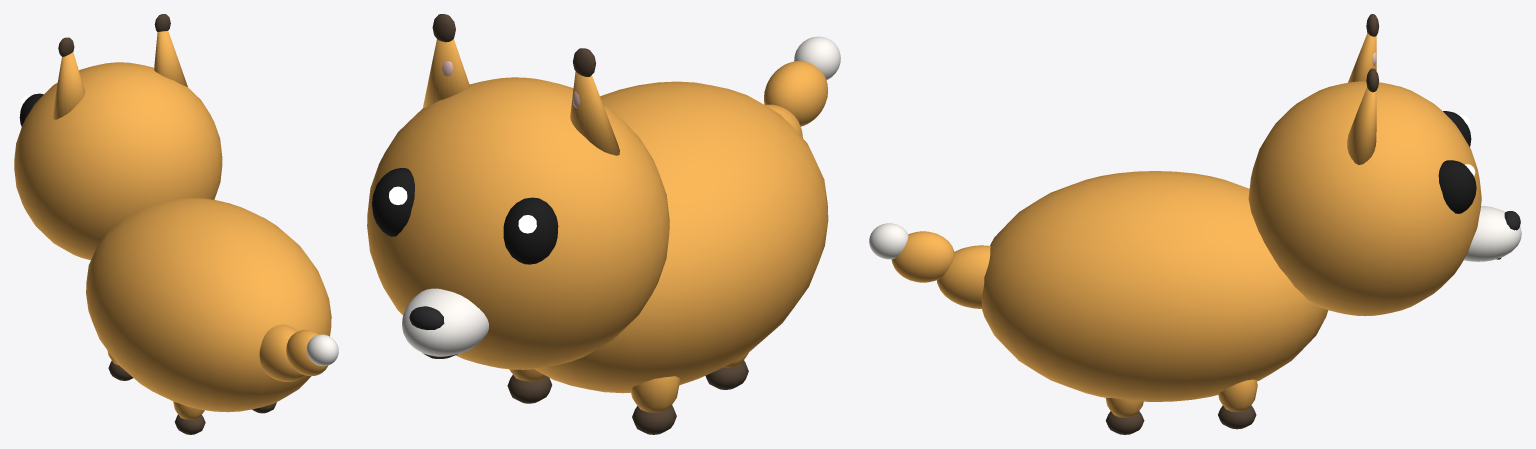
File: scriptfox.glb
The picture shows the model from 3 angles, left to right: view 1: azimuth 30°, elevation 25°; view 2: azimuth 150°, elevation 25°; view 3: azimuth 270°, elevation 25°; orthographic projection. The views are drawn at different scales.
Visible parts, largest first — view 1: Fox_Body, Fox_Head, Fox_TailMid, Fox_Ear_R, Fox_TailEnd, Fox_Ear_L, Fox_TailTip, Fox_Paw_BR, Fox_Leg_BR; view 2: Fox_Head, Fox_Body, Fox_Snout, Fox_TailEnd, Fox_Eye_R, Fox_Ear_R, Fox_Eye_L, Fox_Ear_L, Fox_Leg_FR, Fox_TailTip, Fox_Paw_FR, Fox_Paw_FL (+4 smaller); view 3: Fox_Body, Fox_Head, Fox_TailEnd, Fox_TailMid, Fox_Snout, Fox_Ear_L, Fox_Eye_L, Fox_TailTip, Fox_Leg_FL, Fox_Ear_R, Fox_Paw_BL, Fox_Paw_FL.
Part boxes in pixels (box(x1,y1,x2,y2)): Fox_Body: box(86, 197, 331, 412); Fox_Head: box(14, 62, 222, 260); Fox_TailMid: box(259, 324, 304, 381); Fox_Ear_R: box(52, 52, 84, 119); Fox_TailEnd: box(286, 330, 327, 376); Fox_Ear_L: box(154, 31, 187, 86); Fox_TailTip: box(306, 334, 338, 366); Fox_Paw_BR: box(175, 414, 205, 434); Fox_Leg_BR: box(173, 401, 204, 419); Fox_Head: box(367, 77, 669, 369); Fox_Body: box(535, 81, 828, 393); Fox_Snout: box(402, 288, 488, 356); Fox_TailEnd: box(764, 61, 827, 126); Fox_Eye_R: box(503, 197, 558, 264); Fox_Ear_R: box(570, 71, 619, 155); Fox_Eye_L: box(372, 168, 414, 236); Fox_Ear_L: box(423, 39, 469, 108); Fox_Leg_FR: box(630, 376, 680, 412); Fox_TailTip: box(794, 36, 840, 80); Fox_Paw_FR: box(632, 405, 676, 434); Fox_Paw_FL: box(507, 375, 552, 403); Fox_Body: box(981, 171, 1328, 401); Fox_Head: box(1248, 81, 1481, 316); Fox_TailEnd: box(891, 231, 954, 282); Fox_TailMid: box(937, 245, 990, 308); Fox_Snout: box(1464, 206, 1521, 261); Fox_Ear_L: box(1347, 87, 1376, 164); Fox_Eye_L: box(1438, 160, 1476, 213); Fox_TailTip: box(869, 223, 908, 259); Fox_Leg_FL: box(1218, 379, 1257, 412); Fox_Ear_R: box(1348, 33, 1376, 82); Fox_Paw_BL: box(1105, 411, 1144, 434); Fox_Paw_FL: box(1218, 405, 1256, 429).
Bounding box in the file's own units: 0.8 × 1.26 × 2.02.
